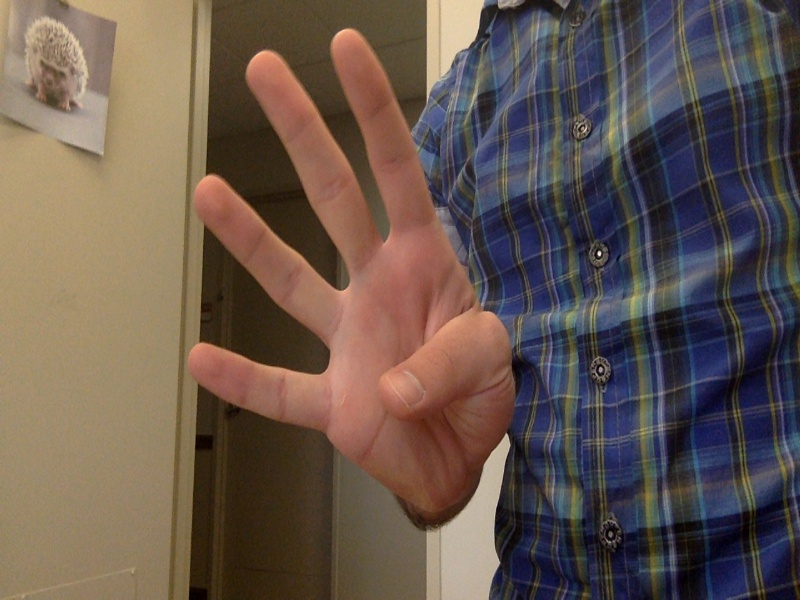4-hand: (189, 29, 521, 517)
